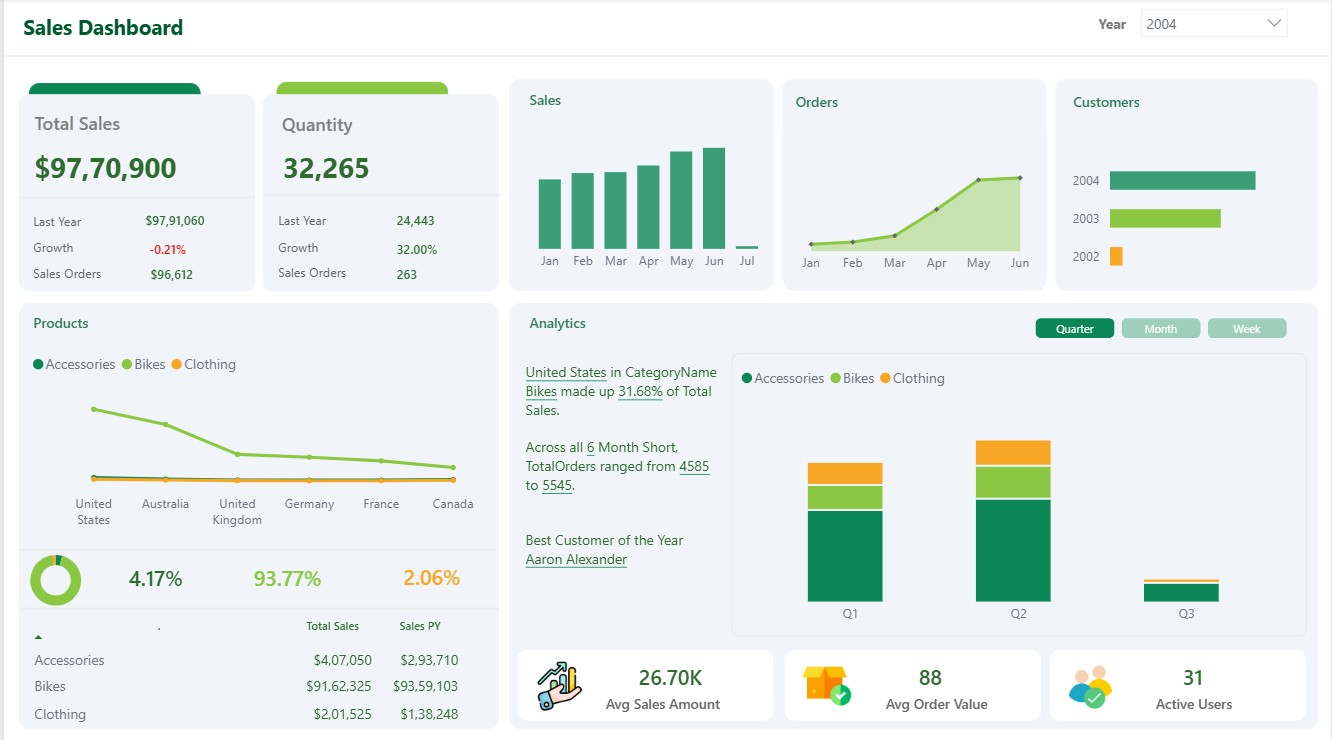

What the dashboard file says about the page in this screenshot:
{"tool":"powerbi","page":{"name":"Sales Dashboard","canvas":[1280,720],"ordinal":0},"visuals":[{"type":"actionButton","box":[14.5,9.7,271.4,35],"z":0},{"type":"shape","box":[263,80.8,165.3,29],"z":1000},{"type":"shape","box":[24.1,82,165.3,29],"z":2000},{"type":"shape","box":[0,47.1,1280,18.1],"z":3000},{"type":"shape","box":[249.7,93.1,228,190.6],"z":4000},{"type":"shape","box":[486.9,78.7,255,203.9],"z":5000},{"type":"shape","box":[751.1,78.7,254.6,203.9],"z":6000},{"type":"shape","box":[1014.8,78.7,253.4,203.9],"z":7000},{"type":"shape","box":[14.5,294.4,463.3,411.4],"z":8000},{"type":"shape","box":[14.5,92.9,228,190.6],"z":9000},{"type":"shape","box":[487.4,294.4,780.6,411.4],"z":10000},{"type":"actionButton","box":[25.6,102.1,137.5,35],"z":11000},{"type":"actionButton","box":[264.5,103.3,137.5,35],"z":12000},{"type":"slicer","fields":{"Values":["Calendar.CalendarYear"]},"box":[1087.5,0,161.7,47.1],"z":13000},{"type":"actionButton","box":[1028.4,8.4,59.1,32.6],"z":14000},{"type":"multiRowCard","title":"Total Sales","fields":{"Values":["Sum(Sales.SalesAmount)"]},"box":[24.7,139.7,213.5,57.4],"z":15000},{"type":"multiRowCard","title":"Total Sales","fields":{"Values":[".Measure.TotalOrders"]},"box":[264.5,139.7,204.8,57.4],"z":16000},{"type":"shape","box":[14.5,183.2,228,18.1],"z":17000},{"type":"actionButton","box":[24.1,201.5,83.2,27.7],"z":18000},{"type":"actionButton","box":[23.7,227.8,83.8,23.7],"z":19000},{"type":"actionButton","box":[24.1,253.4,83.2,24.1],"z":20000},{"type":"actionButton","box":[260.9,199.9,83.2,27.7],"z":21000},{"type":"actionButton","box":[260.9,227.6,83.2,24.1],"z":22000},{"type":"actionButton","box":[260.9,251.8,83.2,24.1],"z":23000},{"type":"shape","box":[250.9,180.8,228,18.1],"z":24000},{"type":"actionButton","box":[503.1,79.6,94.1,35],"z":25000},{"type":"actionButton","box":[760.1,82,94.1,35],"z":26000},{"type":"actionButton","box":[1027.9,82,94.1,35],"z":27000},{"type":"clusteredColumnChart","fields":{"Y":[".Measure.Total Sales"],"Category":["Calendar.Month Short"]},"box":[494.6,124.3,255.8,152],"z":28000},{"type":"areaChart","fields":{"Category":["Calendar.Month Short"],"Y":[".Measure.TotalOrders"]},"box":[754,125.5,252.1,152],"z":29000},{"type":"actionButton","box":[24.1,295.8,94.1,35],"z":30000},{"type":"shape","box":[14.7,523.2,460.5,18.7],"z":31000},{"type":"shape","box":[16.9,580.3,460.9,18.1],"z":32000},{"type":"pivotTable","fields":{"Rows":["dimProductCategory.EnglishProductCategoryName"],"Values":[".Measure.Total Sales",".Measure.Sales PY"]},"box":[19.3,589.9,445.2,120.6],"z":33000},{"type":"actionButton","box":[503.1,295.8,94.1,35],"z":34000},{"type":"multiRowCard","title":"Total Sales","fields":{"Values":[".Measure.Sales PY"]},"box":[131.3,200.9,107.6,34.8],"z":35000},{"type":"columnChart","fields":{"Category":["Calendar.Quarter"],"Y":[".Measure.TotalOrders"],"Series":["Products.Category"]},"box":[702.1,342.6,555,273.9],"z":36000},{"type":"advancedSlicerVisual","fields":{"Values":["Selection.Selection"]},"box":[986.9,300.4,261.8,37.4],"z":37000},{"type":"shape","box":[494.6,628.6,248.5,70],"z":38000},{"type":"shape","box":[752.8,628.6,248.5,70],"z":39000},{"type":"shape","box":[1008.6,628.6,248.5,70],"z":40000},{"type":"actionButton","box":[577.2,667.2,120.6,27.7],"z":41000},{"type":"actionButton","box":[847.2,665.9,121.5,28.4],"z":42000},{"type":"actionButton","box":[1108,665.9,95.7,28.4],"z":43000},{"type":"image","box":[503,640.6,66.4,47.5],"z":44000},{"type":"image","box":[760.1,640.6,67.6,47.1],"z":45000},{"type":"image","box":[1020.1,643.9,55.6,41.4],"z":46000},{"type":"card","fields":{"Values":[".Measure.Avg Sales"]},"box":[566.3,631.2,155,52.2],"z":47000},{"type":"card","fields":{"Values":[".Measure.Avg Orders"]},"box":[816.7,631.2,155,52.2],"z":48000},{"type":"card","fields":{"Values":[".Measure.Avg Customers"]},"box":[1070.5,630.9,155.2,51.7],"z":49000},{"type":"lineChart","fields":{"Y":[".Measure.Total Sales"],"Series":["dimProductCategory.EnglishProductCategoryName"],"Category":["Territory.Country"]},"box":[18.1,329.7,456.4,193.9],"z":50000},{"type":"card","fields":{"Values":[".Measure.Accessories%"]},"box":[77.5,535.4,138.7,51.9],"z":51000},{"type":"card","fields":{"Values":[".Measure.Bikes%"]},"box":[212.6,535.4,123.1,51.9],"z":52000},{"type":"card","fields":{"Values":[".Measure.Clothing%"]},"box":[352.3,534.5,121.9,51.9],"z":53000},{"type":"donutChart","fields":{"Y":[".Measure.Accessories%",".Measure.Bikes%",".Measure.Clothing%"]},"box":[14.5,526,71.2,72.4],"z":54000},{"type":"textbox","box":[494.6,342.6,202.7,272.7],"z":55000},{"type":"barChart","fields":{"Category":["Summar.Year"],"Y":[".Measure.Last 3 Years Display"]},"box":[1020.6,149.6,236.5,126.7],"z":56000},{"type":"multiRowCard","title":"Total Sales","fields":{"Values":[".Measure.Quantity PY"]},"box":[373.5,201.6,96.5,34.6],"z":56001},{"type":"multiRowCard","title":"Total Sales","fields":{"Values":[".Measure.Sales Growth %"]},"box":[134.8,228.8,77.9,34.6],"z":56002},{"type":"multiRowCard","title":"Total Sales","fields":{"Values":[".Measure.Quantity Growth %"]},"box":[373.5,228.8,77.9,34.6],"z":56003},{"type":"multiRowCard","title":"Total Sales","fields":{"Values":[".Measure.Max sales"]},"box":[136,253.5,102.6,34.6],"z":56004},{"type":"multiRowCard","title":"Total Sales","fields":{"Values":[".Measure.Max Quantity"]},"box":[373.5,253.5,96.5,33.4],"z":56005}]}

Visuals, with their boxes in screenshot pixels (x1, y1, x2, y2), scaled from the page's 1280x720 canvas onto the 1332x740 screenshot:
actionButton: box(15, 10, 298, 46)
shape: box(274, 83, 446, 113)
shape: box(25, 84, 197, 114)
shape: box(0, 48, 1331, 67)
shape: box(260, 96, 497, 292)
shape: box(507, 81, 772, 290)
shape: box(782, 81, 1047, 290)
shape: box(1056, 81, 1320, 290)
shape: box(15, 303, 497, 725)
shape: box(15, 95, 252, 291)
shape: box(507, 303, 1320, 725)
actionButton: box(27, 105, 170, 141)
actionButton: box(275, 106, 418, 142)
slicer - Calendar.CalendarYear: box(1132, 0, 1300, 48)
actionButton: box(1070, 9, 1132, 42)
"Total Sales" multiRowCard: box(26, 144, 248, 203)
"Total Sales" multiRowCard: box(275, 144, 488, 203)
shape: box(15, 188, 252, 207)
actionButton: box(25, 207, 112, 236)
actionButton: box(25, 234, 112, 258)
actionButton: box(25, 260, 112, 285)
actionButton: box(271, 205, 358, 234)
actionButton: box(271, 234, 358, 259)
actionButton: box(271, 259, 358, 284)
shape: box(261, 186, 498, 204)
actionButton: box(524, 82, 621, 118)
actionButton: box(791, 84, 889, 120)
actionButton: box(1070, 84, 1168, 120)
clusteredColumnChart - .Measure.Total Sales x Calendar.Month Short: box(515, 128, 781, 284)
areaChart - Calendar.Month Short x .Measure.TotalOrders: box(785, 129, 1047, 285)
actionButton: box(25, 304, 123, 340)
shape: box(15, 538, 495, 557)
shape: box(18, 596, 497, 615)
pivotTable - dimProductCategory.EnglishProductCategoryName x .Measure.Total Sales: box(20, 606, 483, 730)
actionButton: box(524, 304, 621, 340)
"Total Sales" multiRowCard: box(137, 206, 249, 242)
columnChart - Calendar.Quarter x .Measure.TotalOrders: box(731, 352, 1308, 634)
advancedSlicerVisual - Selection.Selection: box(1027, 309, 1299, 347)
shape: box(515, 646, 773, 718)
shape: box(783, 646, 1042, 718)
shape: box(1050, 646, 1308, 718)
actionButton: box(601, 686, 726, 714)
actionButton: box(882, 684, 1008, 714)
actionButton: box(1153, 684, 1253, 714)
image: box(523, 658, 593, 707)
image: box(791, 658, 861, 707)
image: box(1062, 662, 1119, 704)
card - .Measure.Avg Sales: box(589, 649, 751, 702)
card - .Measure.Avg Orders: box(850, 649, 1011, 702)
card - .Measure.Avg Customers: box(1114, 648, 1275, 702)
lineChart - .Measure.Total Sales x dimProductCategory.EnglishProductCategoryName: box(19, 339, 494, 538)
card - .Measure.Accessories%: box(81, 550, 225, 604)
card - .Measure.Bikes%: box(221, 550, 349, 604)
card - .Measure.Clothing%: box(367, 549, 493, 603)
donutChart - .Measure.Accessories% x .Measure.Bikes%: box(15, 541, 89, 615)
textbox: box(515, 352, 726, 632)
barChart - Summar.Year x .Measure.Last 3 Years Display: box(1062, 154, 1308, 284)
"Total Sales" multiRowCard: box(389, 207, 489, 243)
"Total Sales" multiRowCard: box(140, 235, 221, 271)
"Total Sales" multiRowCard: box(389, 235, 470, 271)
"Total Sales" multiRowCard: box(142, 261, 248, 296)
"Total Sales" multiRowCard: box(389, 261, 489, 295)
